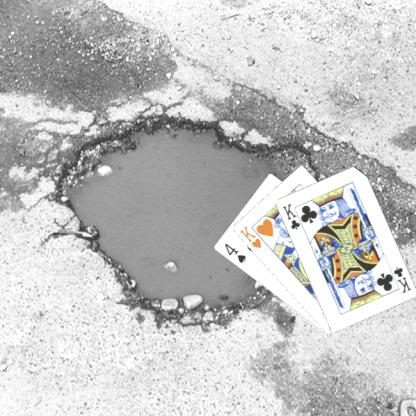4S: (221, 241, 247, 264)
KC: (386, 264, 412, 294), (280, 200, 305, 231)
KH: (236, 222, 262, 250)
